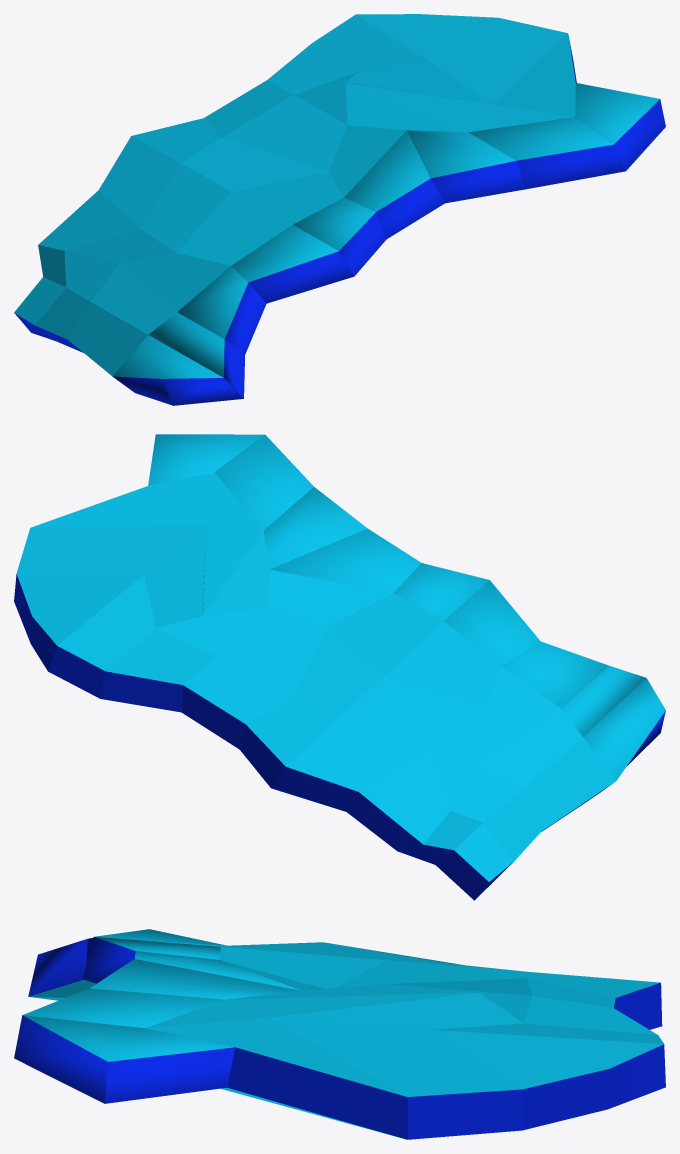
File: breakingTest.fbx
3 views of the same model, one above another, from view 1: azimuth 30°, elevation 25°; view 2: azimuth 150°, elevation 25°; view 3: azimuth 270°, elevation 25° (orthographic). The views are drawn at different scales.
Parts seen in each view (by area): view 1: polySurface439, polySurface438, polySurface448, polySurface441, polySurface437, polySurface443, polySurface436, polySurface434, polySurface428, polySurface451, polySurface442, polySurface452 (+24 smaller); view 2: polySurface423, polySurface448, polySurface422, polySurface425, polySurface424, polySurface451, polySurface419, polySurface433, polySurface443, polySurface421, polySurface428, polySurface437 (+24 smaller); view 3: polySurface448, polySurface434, polySurface433, polySurface425, polySurface449, polySurface439, polySurface438, polySurface432, polySurface427, polySurface420, polySurface452, polySurface419 (+12 smaller).
Part boxes in pixels (<box>): polySurface439: <box>469,117,625,189</box>; polySurface438: <box>407,130,525,203</box>; polySurface448: <box>438,18,567,104</box>; polySurface441: <box>231,225,354,303</box>; polySurface437: <box>344,130,444,239</box>; polySurface443: <box>222,95,347,171</box>; polySurface436: <box>112,335,243,405</box>; polySurface434: <box>575,83,665,170</box>; polySurface428: <box>176,192,292,265</box>; polySurface451: <box>140,163,231,252</box>; polySurface442: <box>177,266,266,354</box>; polySurface452: <box>181,138,327,191</box>; polySurface423: <box>271,722,431,811</box>; polySurface448: <box>16,526,206,574</box>; polySurface422: <box>346,746,450,851</box>; polySurface425: <box>14,573,143,670</box>; polySurface424: <box>48,575,155,698</box>; polySurface451: <box>334,676,486,746</box>; polySurface419: <box>100,628,215,712</box>; polySurface433: <box>31,472,214,527</box>; polySurface443: <box>216,608,326,696</box>; polySurface421: <box>181,656,291,749</box>; polySurface428: <box>385,621,501,703</box>; polySurface437: <box>270,528,421,592</box>; polySurface448: <box>270,1017,522,1139</box>; polySurface434: <box>14,1015,235,1103</box>; polySurface433: <box>146,1017,407,1139</box>; polySurface425: <box>432,1030,665,1130</box>; polySurface449: <box>271,992,523,1029</box>; polySurface439: <box>22,988,224,1028</box>; polySurface438: <box>90,959,301,999</box>; polySurface432: <box>147,992,477,1027</box>; polySurface427: <box>219,946,385,988</box>; polySurface420: <box>526,971,662,1029</box>; polySurface452: <box>335,960,526,988</box>; polySurface419: <box>524,996,657,1034</box>.
Bounding box in the file's own units: 977 × 415 × 762.
